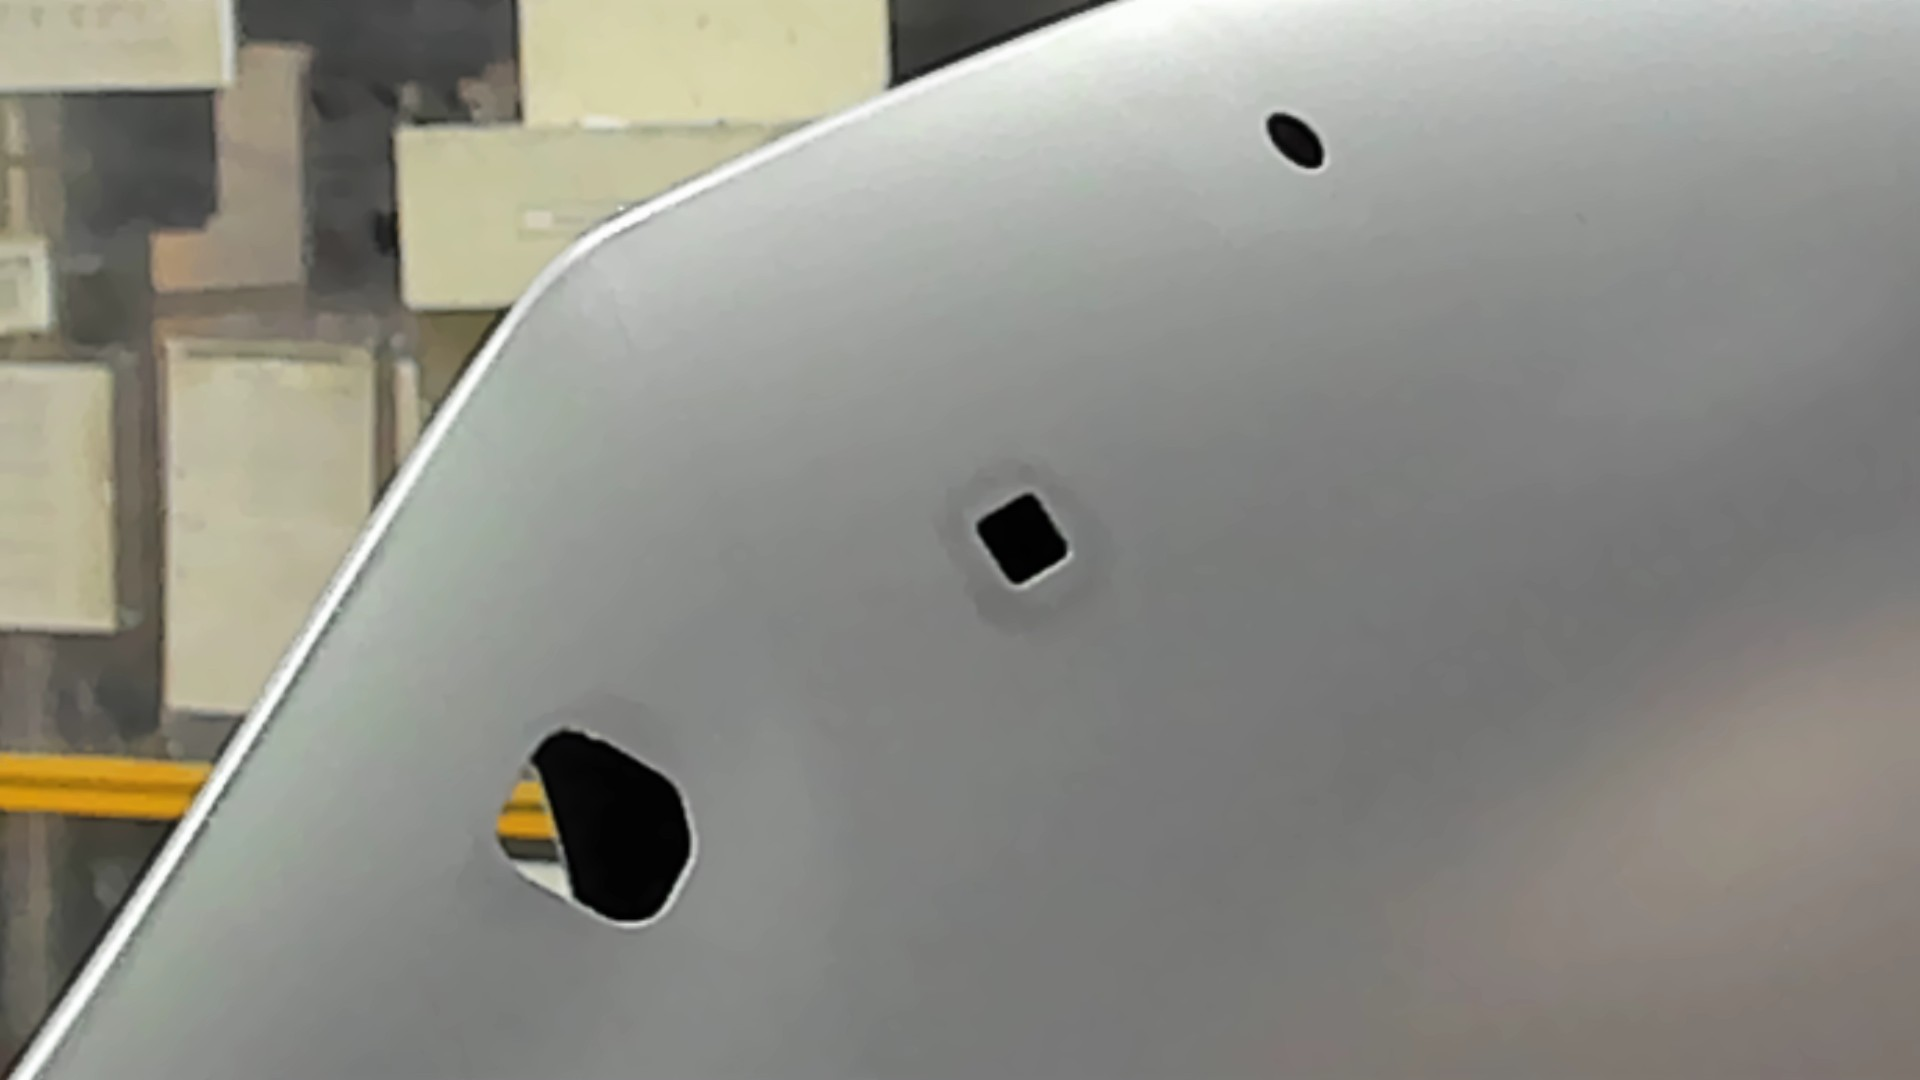chico: (1265, 107, 1332, 171)
grande: (491, 724, 703, 934)
mediano: (968, 487, 1073, 591)
